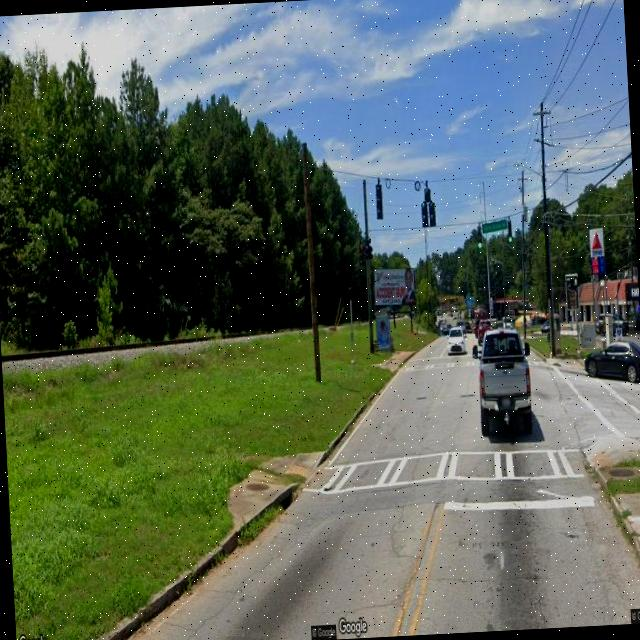shelter: (374, 307, 392, 351)
trash_can: (390, 336, 394, 352)
